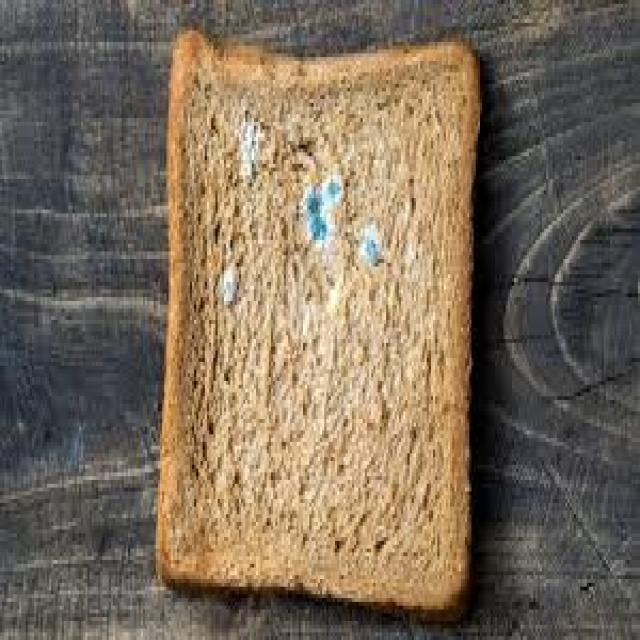organic waste: (151, 23, 476, 617)
